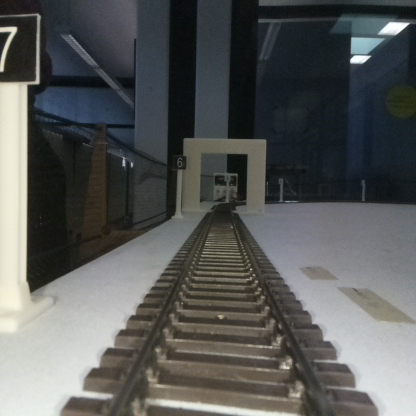black-info-6: (172, 155, 186, 217)
